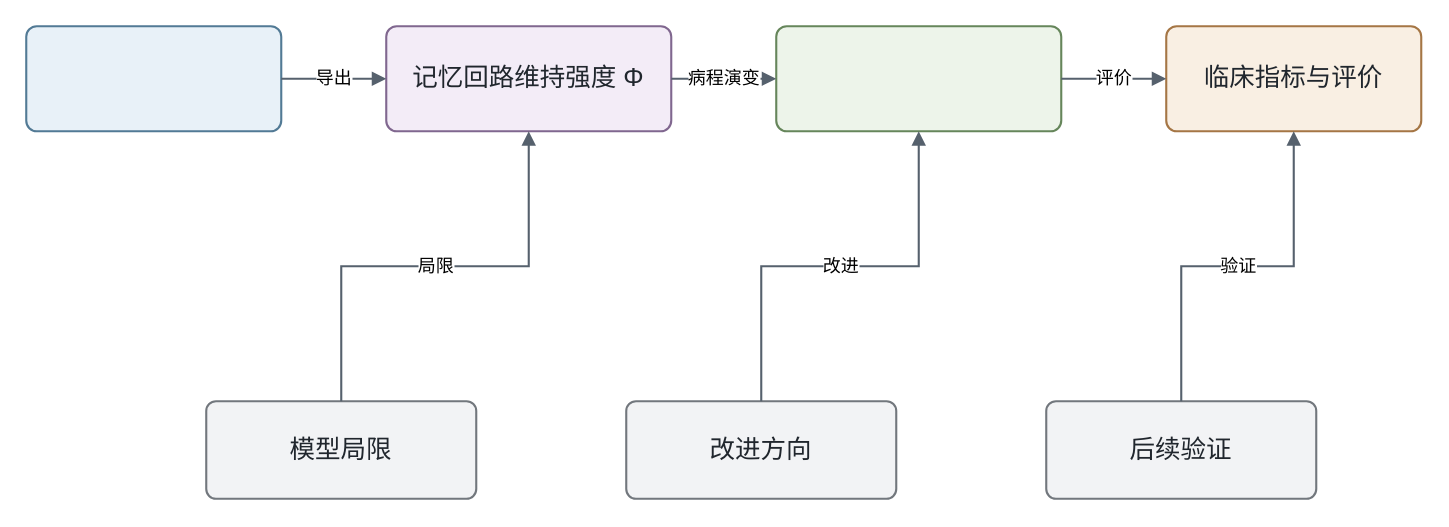
Some shapes in this 1449 by 527 pixel diagram are drawn without their labels. The centre of each missing label's shape, as x and y in pixels:
τ_H 与 g_H 病程趋势: the point at 918,78
双源认知宏观模型: the point at 153,78
